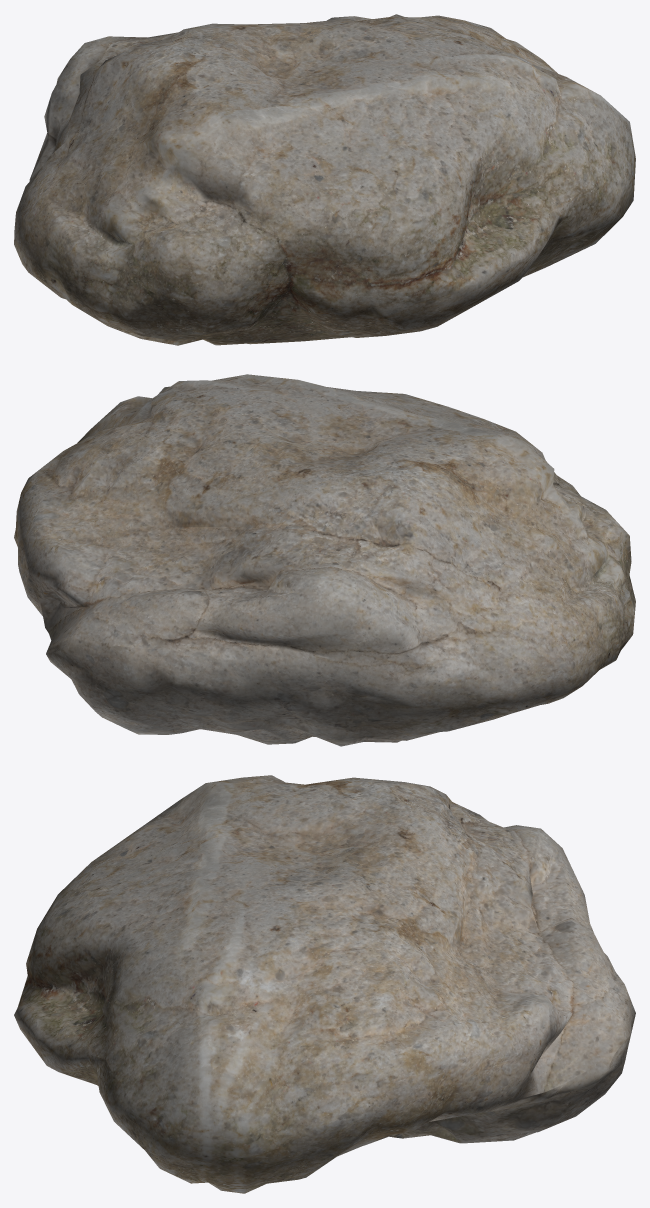
The model's file is wd4kejg_tier_2.gltf.
3 views of the same model, one above another, from view 1: azimuth 30°, elevation 25°; view 2: azimuth 150°, elevation 25°; view 3: azimuth 270°, elevation 25° (orthographic). The views are drawn at different scales.
Parts seen in each view (by area): view 1: wd4kejg_LOD0_TIER2_000; view 2: wd4kejg_LOD0_TIER2_000; view 3: wd4kejg_LOD0_TIER2_000.
Part boxes in pixels (<box>): wd4kejg_LOD0_TIER2_000: <box>14,14,635,345</box>; wd4kejg_LOD0_TIER2_000: <box>14,374,635,746</box>; wd4kejg_LOD0_TIER2_000: <box>14,775,635,1193</box>.
Size of the model in its own units: 0.1736 by 0.0793 by 0.1586.
Materials: 1 (1 with a texture image).
